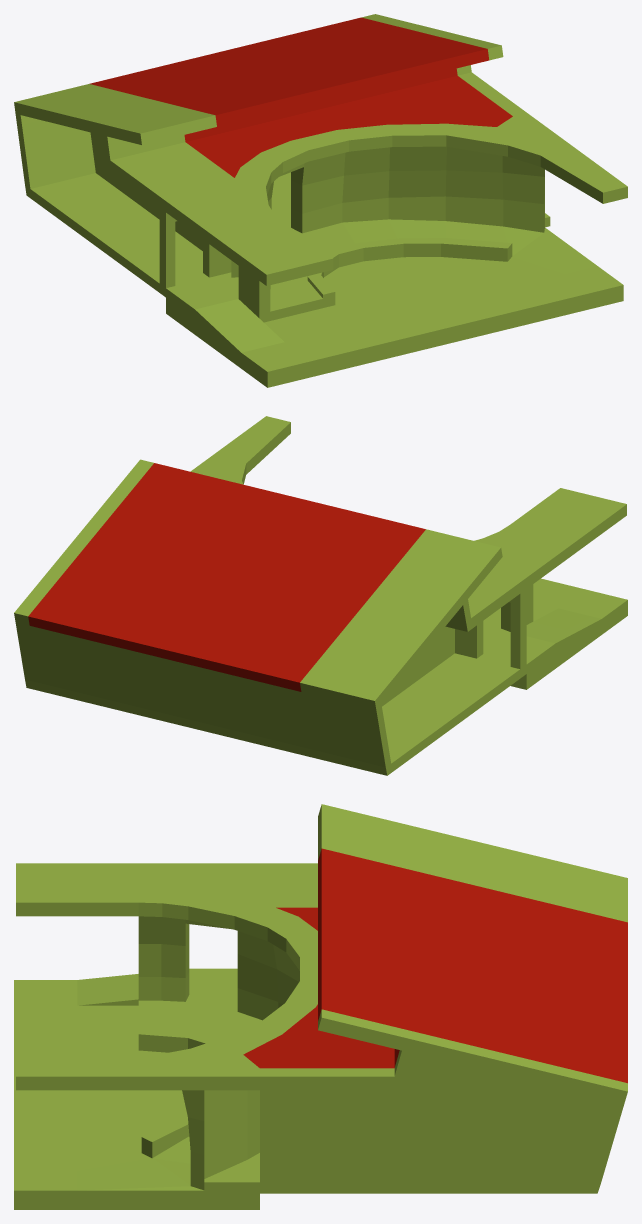
Rendered from linq_low_poly.obj.
3 views of the same model, one above another, from view 1: azimuth 30°, elevation 25°; view 2: azimuth 150°, elevation 25°; view 3: azimuth 270°, elevation 25° (orthographic). The views are drawn at different scales.
Visible parts, largest first — view 1: Cube.001_Cube.000; view 2: Cube.001_Cube.000; view 3: Cube.001_Cube.000.
Part boxes in pixels (left/top/right/bottom): Cube.001_Cube.000: left=14, top=14, right=627, bottom=387; Cube.001_Cube.000: left=14, top=416, right=627, bottom=775; Cube.001_Cube.000: left=14, top=804, right=627, bottom=1209.
Size of the model in its own units: 1.56 by 0.6633 by 1.89.
